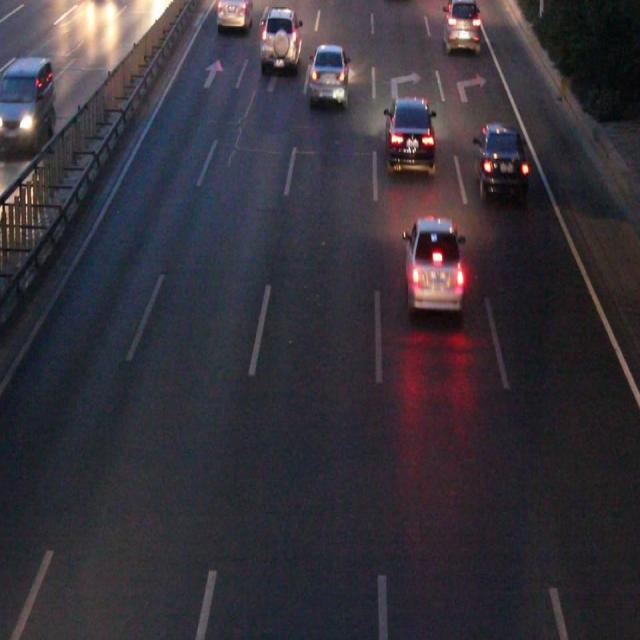car: (405, 220, 462, 310), (476, 127, 526, 197), (386, 98, 434, 168), (309, 47, 348, 102), (263, 11, 300, 66), (443, 1, 479, 49), (218, 1, 251, 27)
